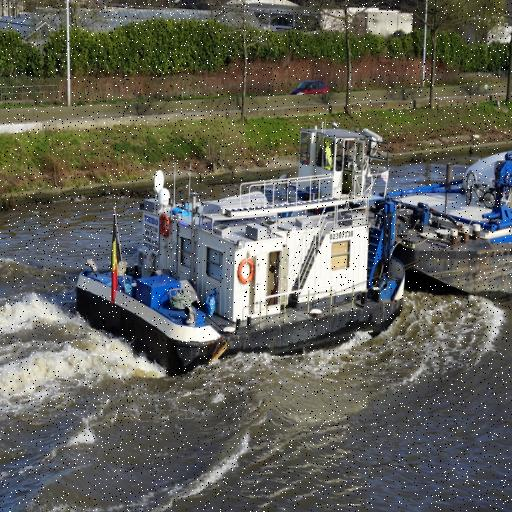tugboat: (74, 114, 410, 383)
